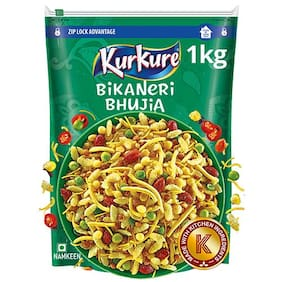kurkure: (87, 39, 186, 83)
plastic: (37, 5, 249, 273)
wrapper: (44, 16, 232, 266)
